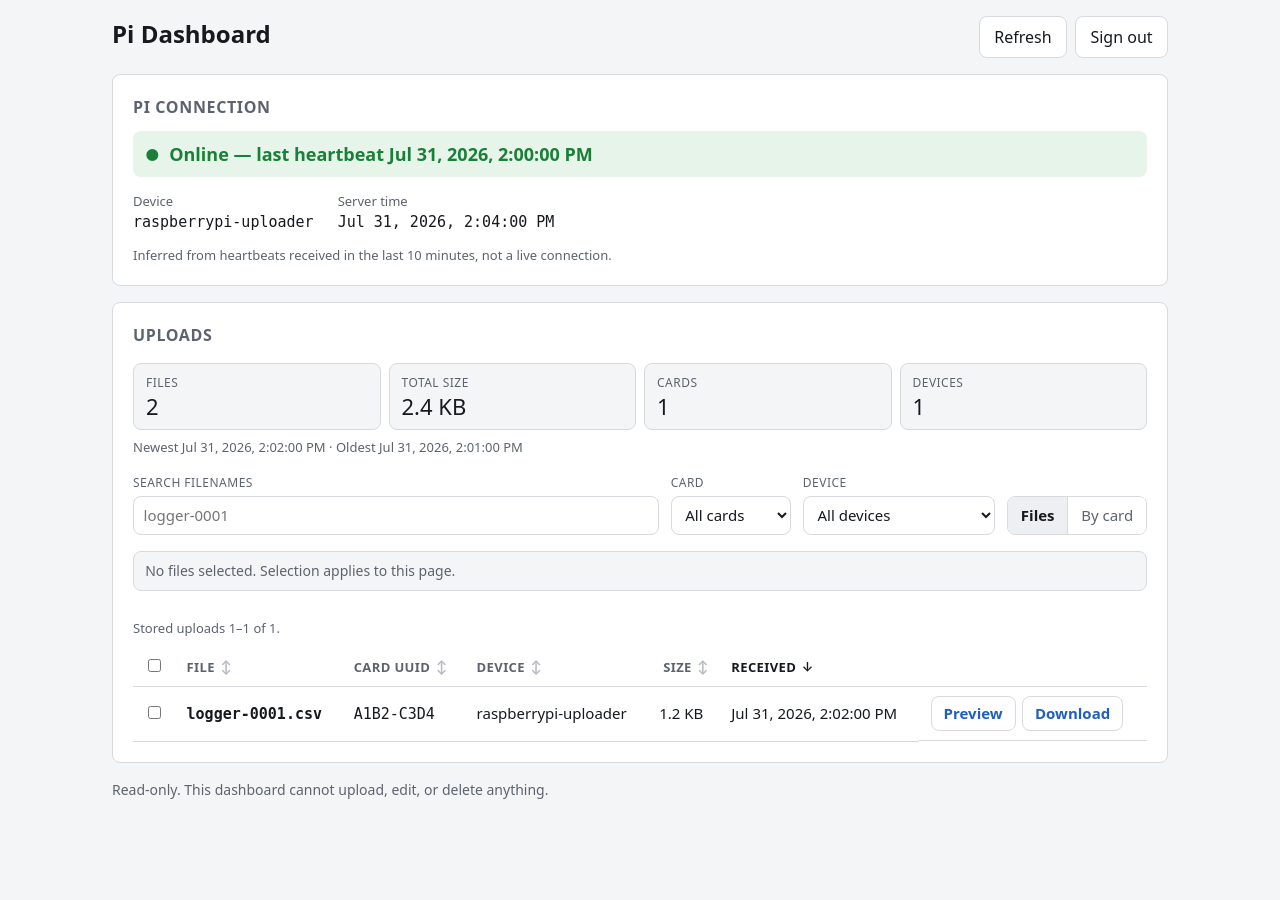
Test: single file download › returns to the login screen when the session has ended
What coordinates should you click on to do the following:
click the button with aria-label "Download logger-0001"
I would click on:
 (1073, 713)
Its box is [1022,696,1123,731].
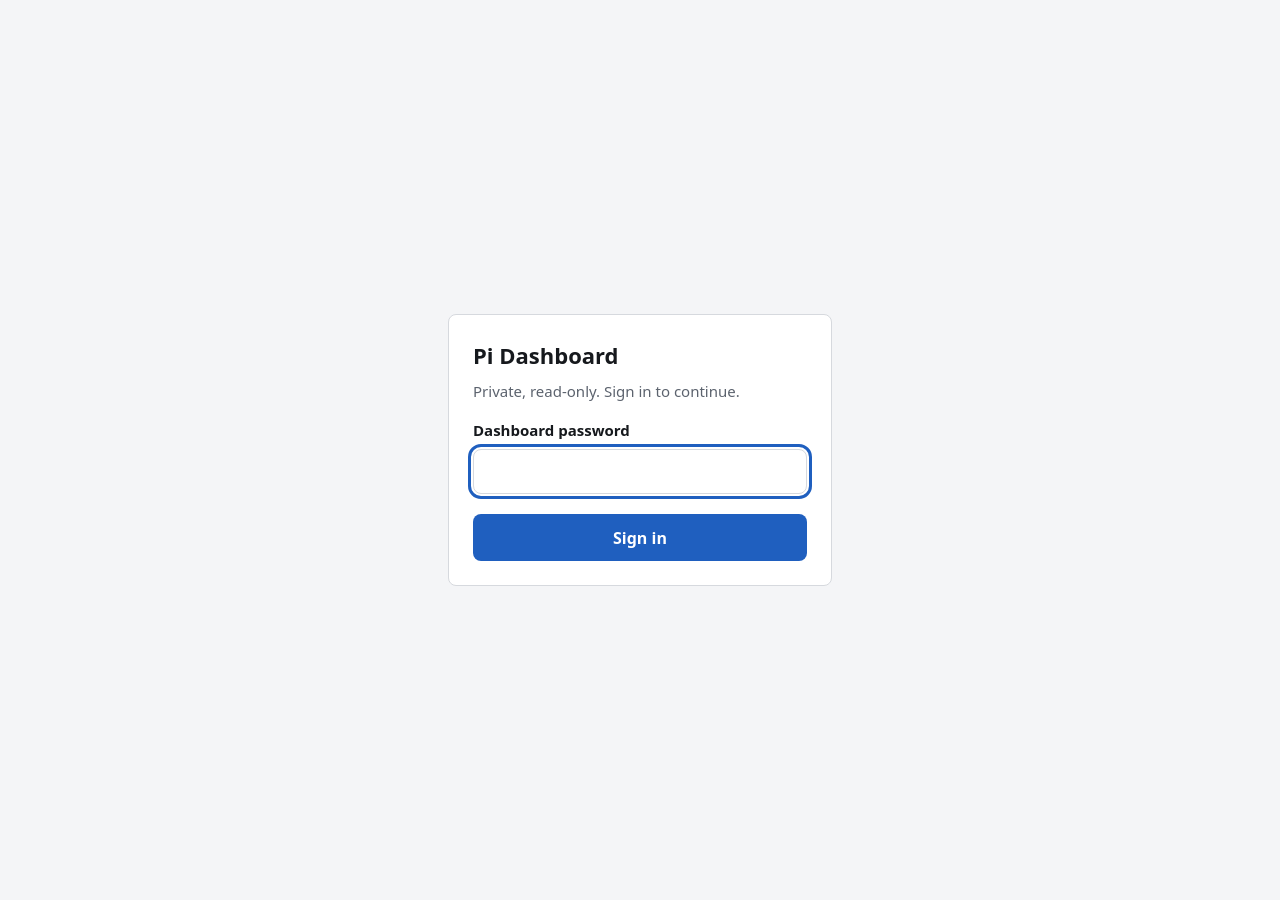
Now the password field labelled "Dashboard password" is shown, box [473,449,807,494]
